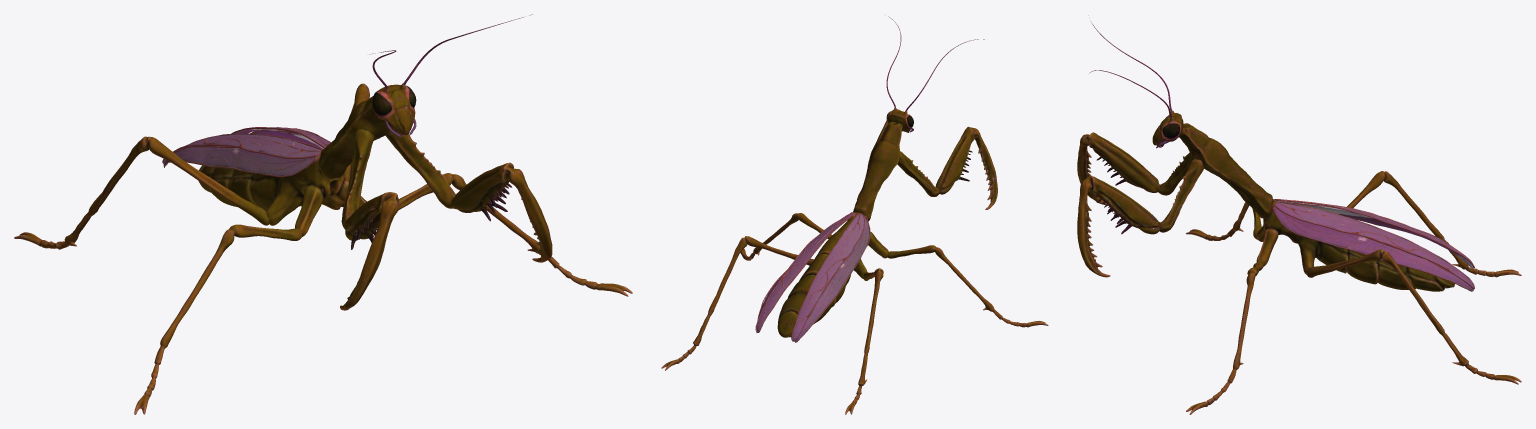
File: three.glb
The picture shows the model from 3 angles, left to right: view 1: azimuth 30°, elevation 25°; view 2: azimuth 150°, elevation 25°; view 3: azimuth 270°, elevation 25°; orthographic projection. The views are drawn at different scales.
Parts seen in each view (by area): view 1: mantis; view 2: mantis; view 3: mantis.
Part boxes in pixels (x1,y1,x2,y2): mantis: (14,14,632,414); mantis: (661,16,1048,414); mantis: (1077,15,1521,414).
Size of the model in its own units: 0.1334 by 0.0963 by 0.1367.
1 material, 1 textured.
